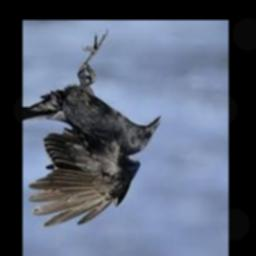Crow: (23, 26, 163, 227)
